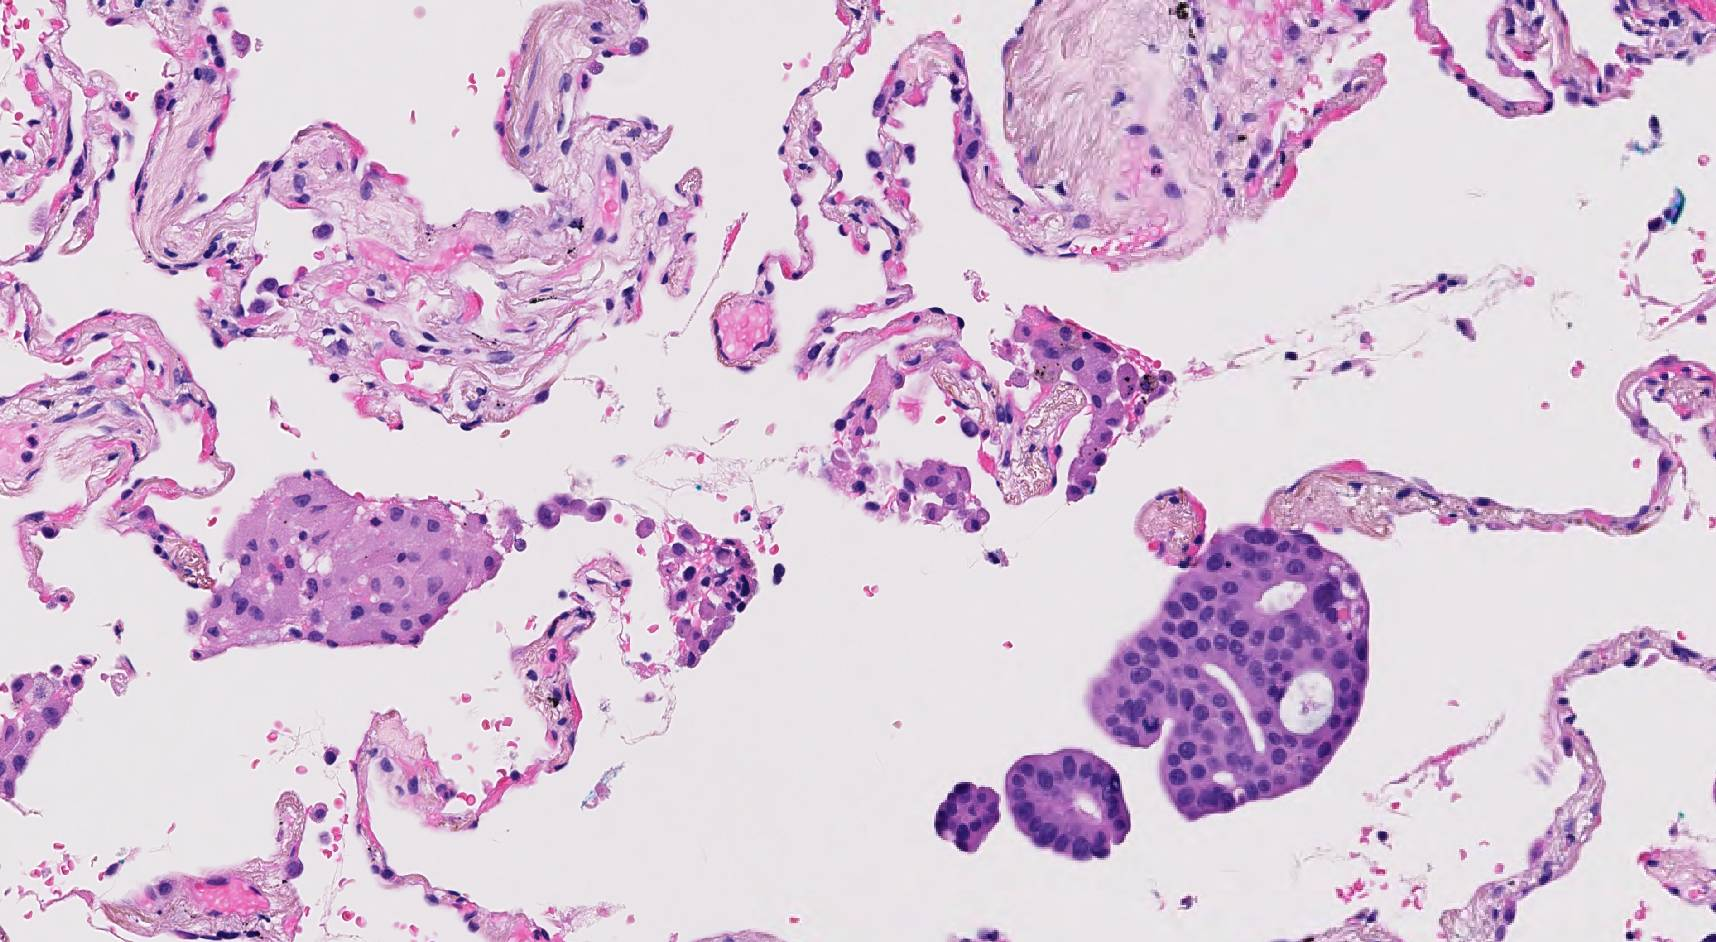stas: (1086, 525, 1372, 817), (1002, 748, 1131, 865), (931, 778, 1005, 852)
